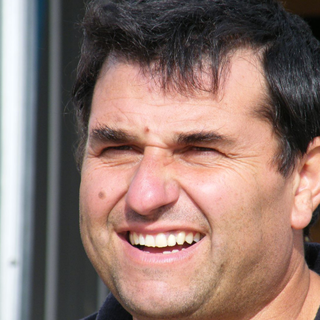eye: (175, 139, 230, 162), (95, 136, 144, 160)
